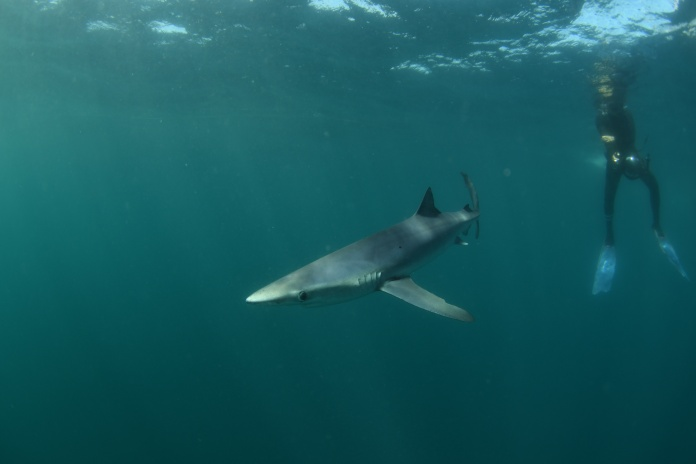Azul: (219, 164, 497, 345)
